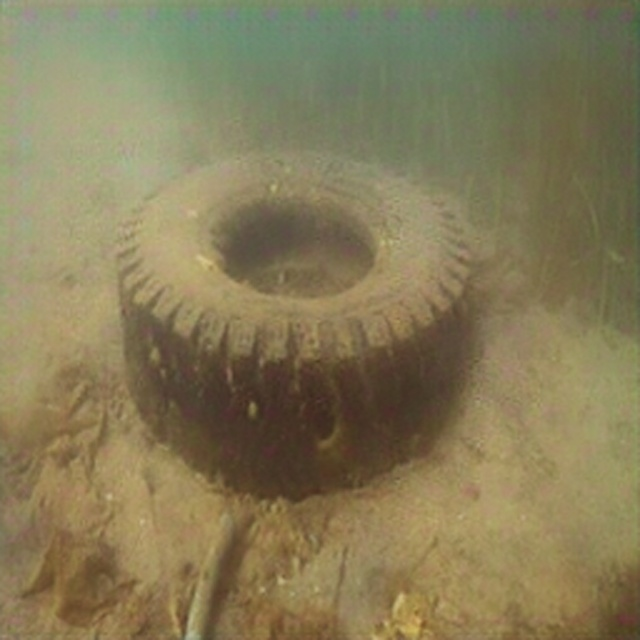mine: (115, 149, 470, 504)
